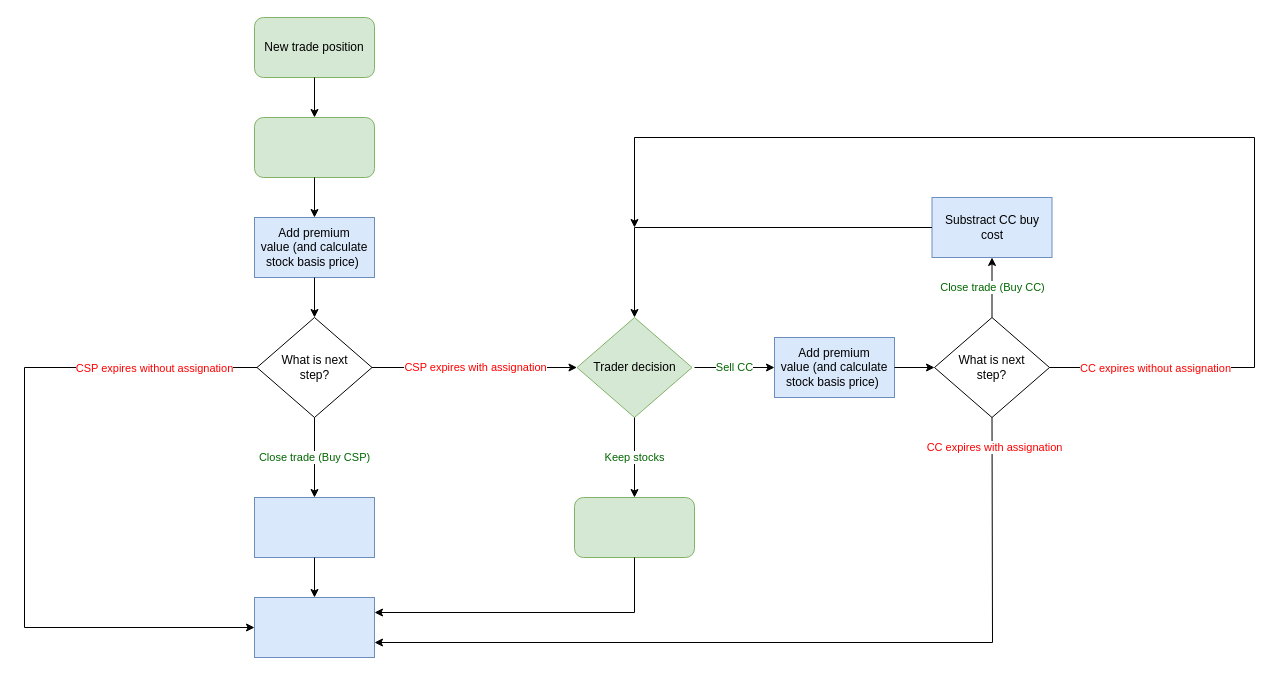
Some shapes in this 1280 by 675 pixel diagram are drawn without their labels. Each missing label, with the box of its shape:
End of trade (Calculate total profit/loss): (254, 596, 374, 658)
Sell CSP: (254, 116, 374, 178)
Sell stock: (574, 496, 694, 558)
Substract CSP buy cost: (254, 496, 374, 558)
